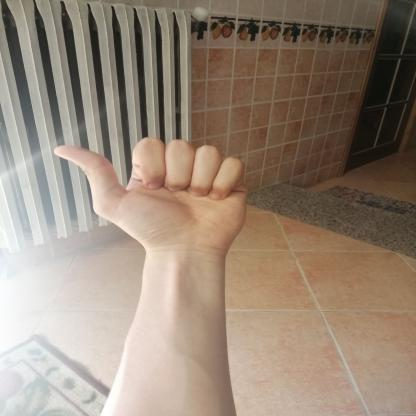DAD: (41, 127, 262, 262)
